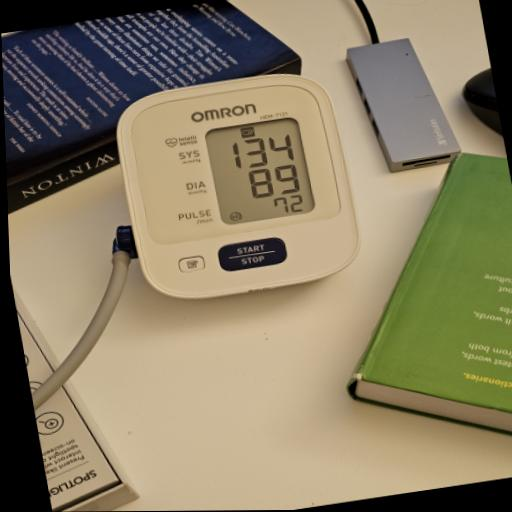lcd display: (203, 116, 318, 227)
